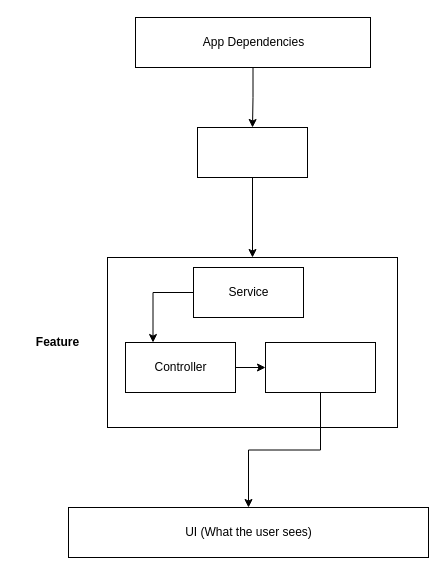
This 446x575 diagram has some shape labels left out. The shapes that lost their labels are listed below. From the top down, each one's centre as x and y in pixels, then its label:
At pixel 252 152: "App Module".
At pixel 320 367: "Template".
